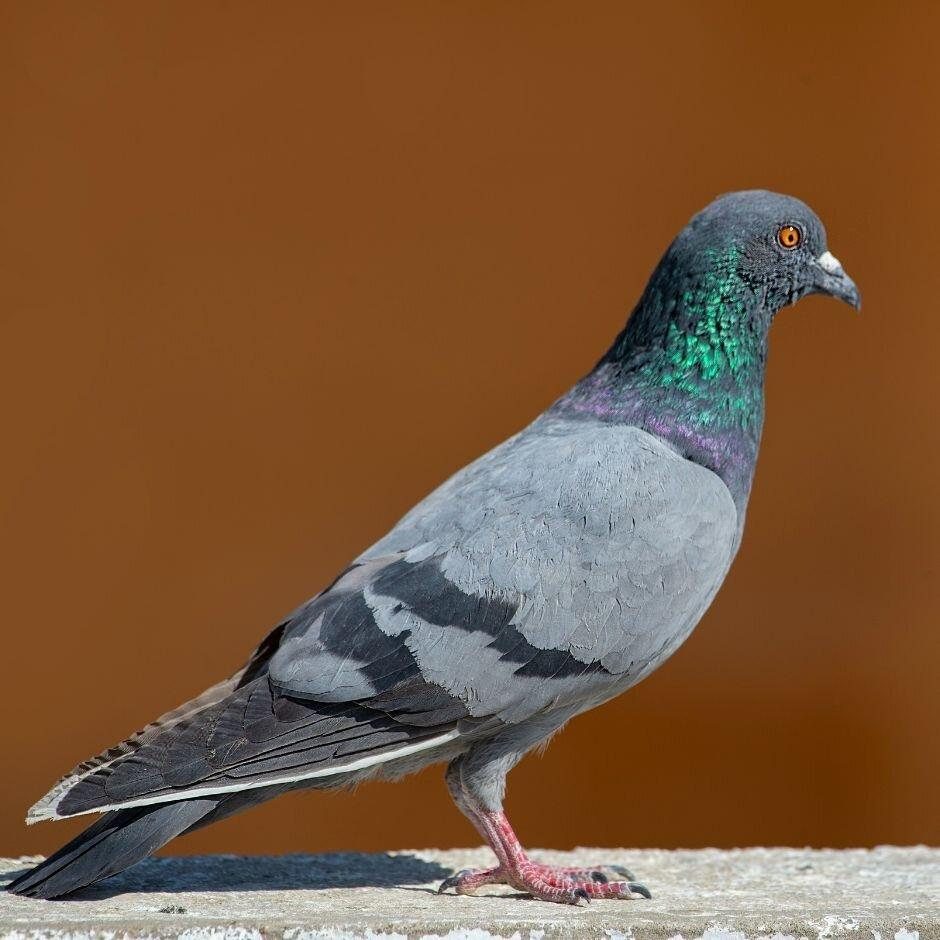Flying Rat: (26, 186, 858, 900)
